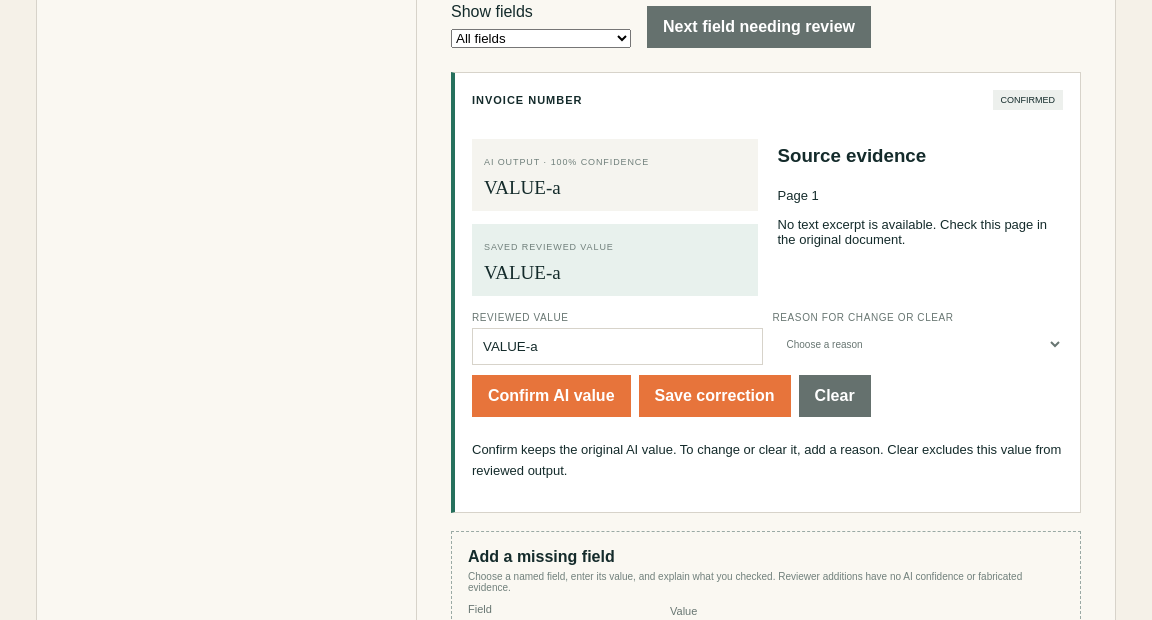
Test: document selection isolates asynchronous review work › keeps the current selection when a pending Save correction finishes for the previous document
The image size is (1152, 620).
(page scrolled)
Step 1. Replace the text in the field labelled "Reviewed value" with "CORRECTED-a" → (617, 347), box [472,328,762,365]
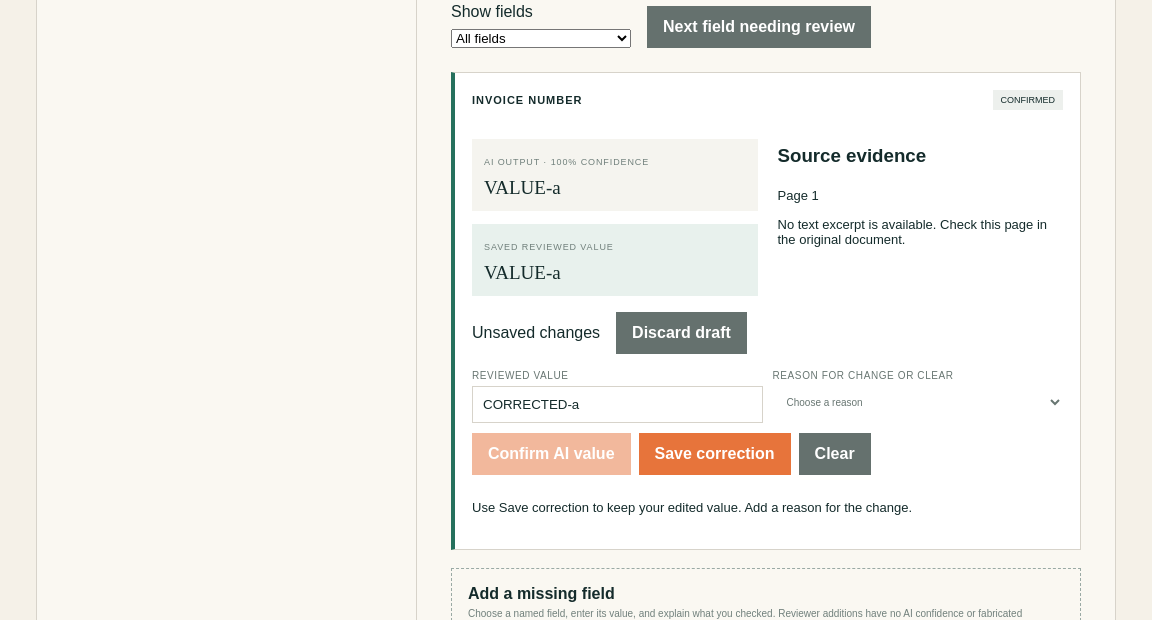
Step 2. Select "Other — write my own" in the dropdown named "Reason for change or clear choices" → (918, 403), box [772,386,1063,419]
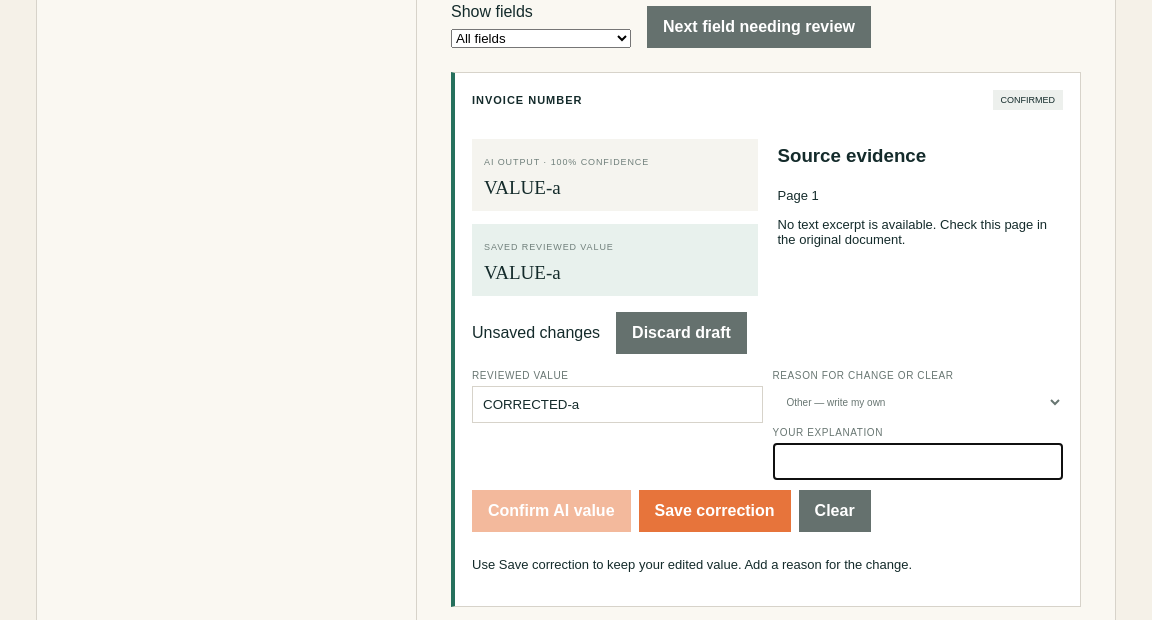
Step 3. Type "Checked original" into the field named "Reason for change or clear: Your explanation" → (918, 462), box [772,443,1063,480]
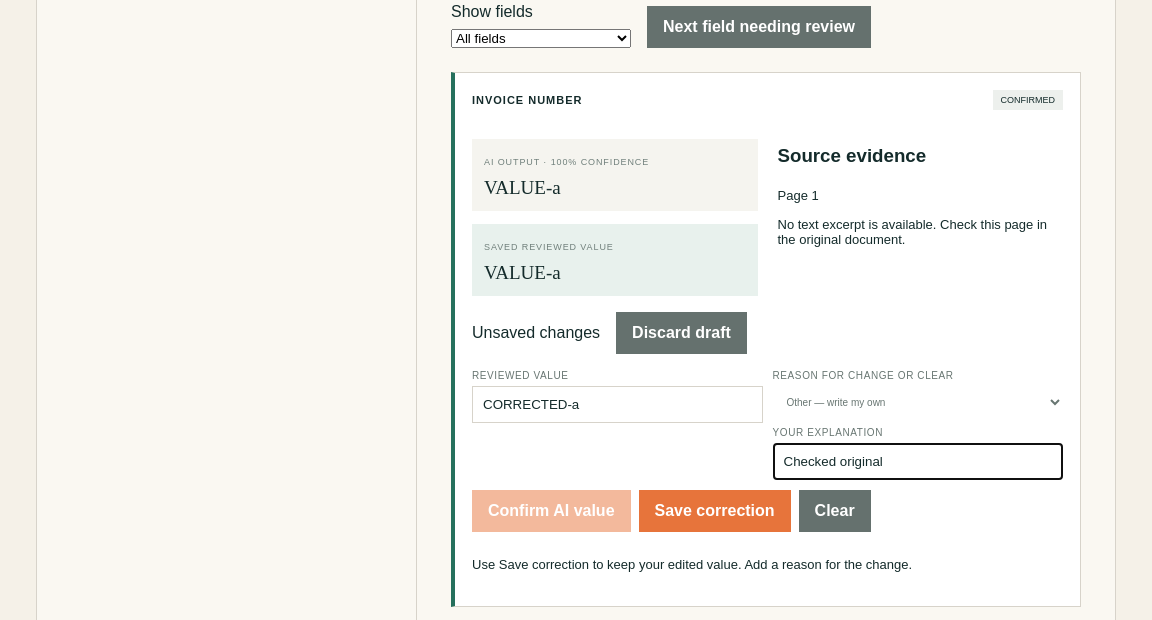
Step 4. Click the button "Save correction" → click(715, 511), box [638,490,791,532]
(page scrolled)
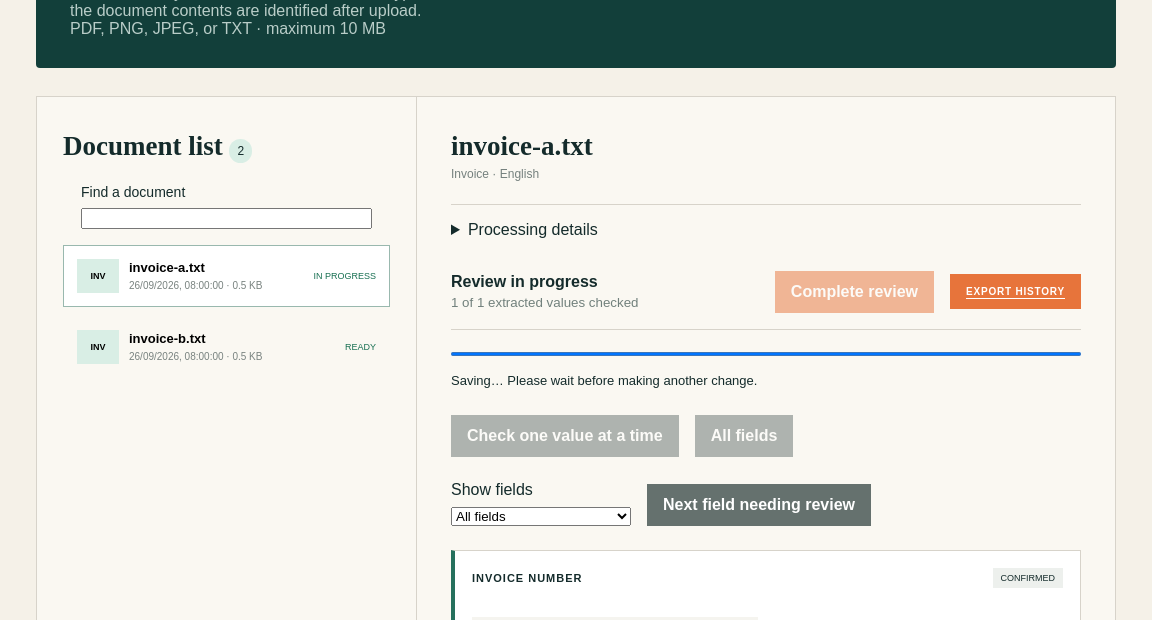
Step 5. Click the button "INV invoice-b.txt 26/09/2026, 08:00:00 · 0.5 KB Ready" → click(98, 347), box [63,316,390,378]
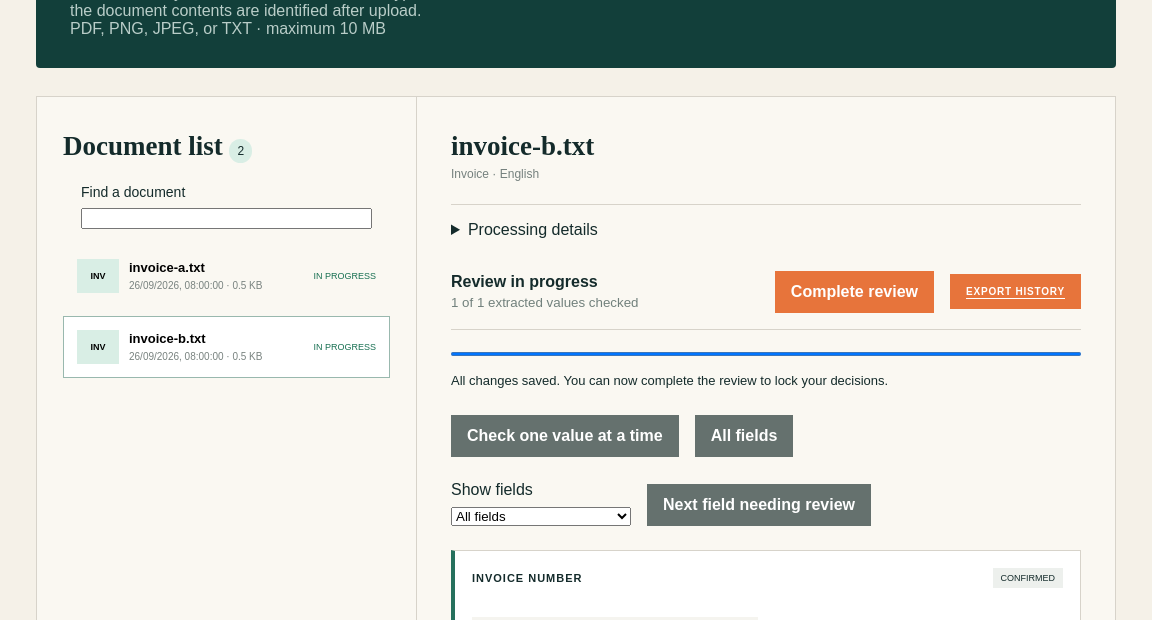
Expected: the heading "invoice-b.txt" is shown, [451,131,594,162]
Expected: the button "Complete review" is enabled, [775,271,934,313]
